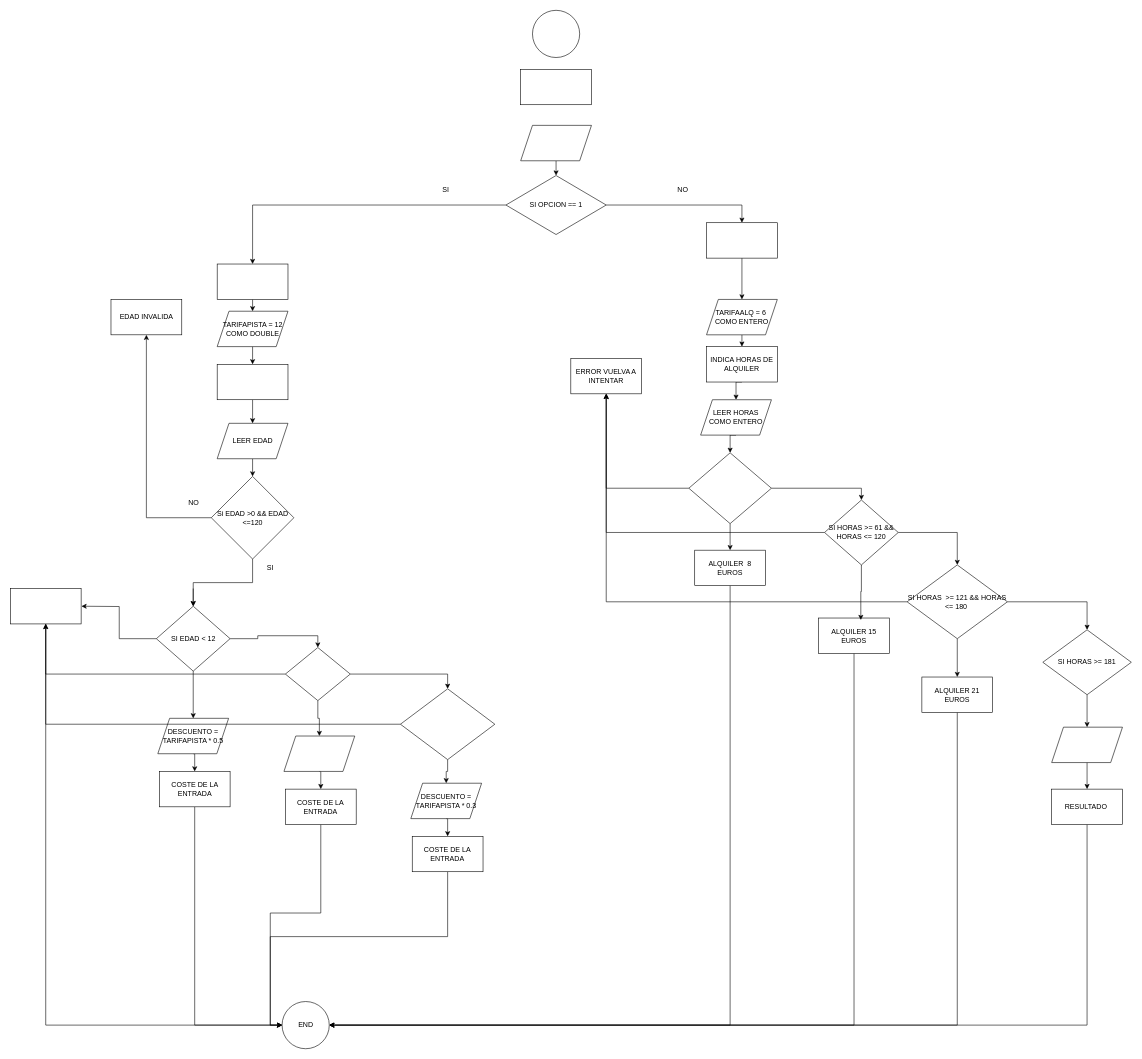
This 1142x1059 diagram has some shape labels left out. The centre of each missing label's shape, as x and y in pixels:
ALQUILER: the point at 741,240
DESCUENTO = TARIFAPISTA * 0.25: the point at 319,753
ENTRADA: the point at 252,281
INDICA EDAD: the point at 252,382
LEER OOPCION: the point at 555,143
RESULTADO = (HORAS / 60 )* 6: the point at 1086,745
SELECCIONA ENTRADA O ALQUILER: the point at 555,87
SI EDAD > 12 && EDAD <= 25: the point at 317,674
SI EDAD >= 65: the point at 447,724
SI HORAS <= 60: the point at 729,488
START: the point at 556,34
TARIFA COMPLETA: the point at 45,606
